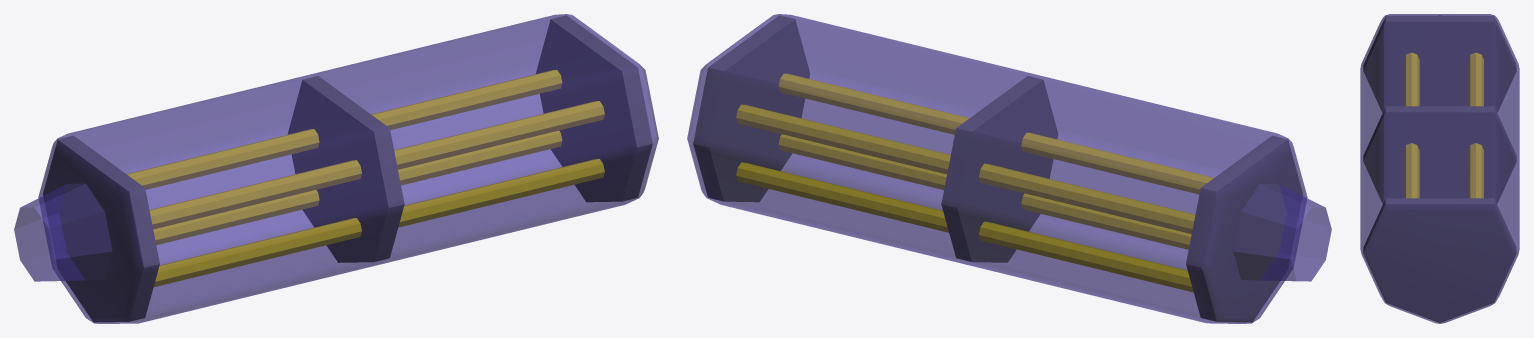
File: pl_glass_normal.fbx
3 views of the same model, side by side, from view 1: azimuth 30°, elevation 25°; view 2: azimuth 150°, elevation 25°; view 3: azimuth 270°, elevation 25° (orthographic). The views are drawn at different scales.
Parts seen in each view (by area): view 1: polySurface7; view 2: polySurface7; view 3: polySurface7.
Part boxes in pixels (left/top/right/bottom): polySurface7: left=14, top=14, right=658, bottom=323; polySurface7: left=687, top=14, right=1331, bottom=323; polySurface7: left=1360, top=14, right=1519, bottom=323.
Size of the model in its own units: 177 by 48.29 by 56.03.
